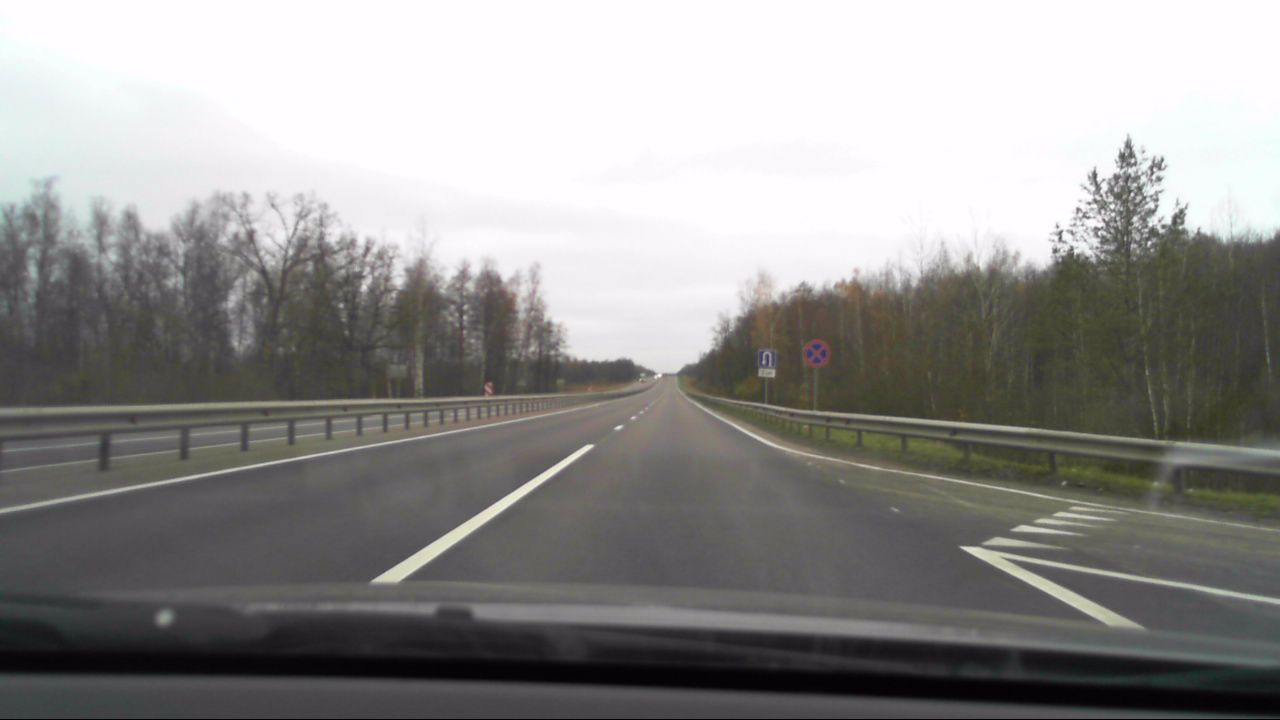No Parking: (802, 340, 831, 369)
U-turn: (758, 350, 775, 368)
